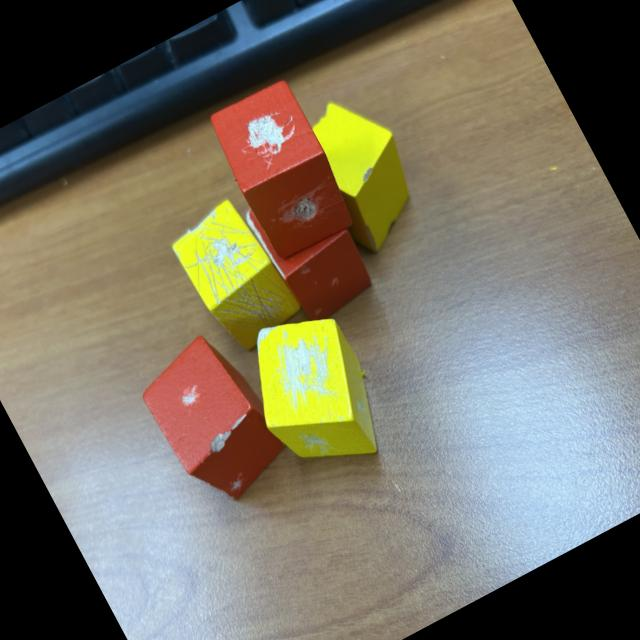broken: (224, 292, 402, 492), (128, 322, 298, 517), (202, 74, 362, 264), (288, 80, 440, 262), (162, 190, 308, 360), (240, 170, 380, 330)
